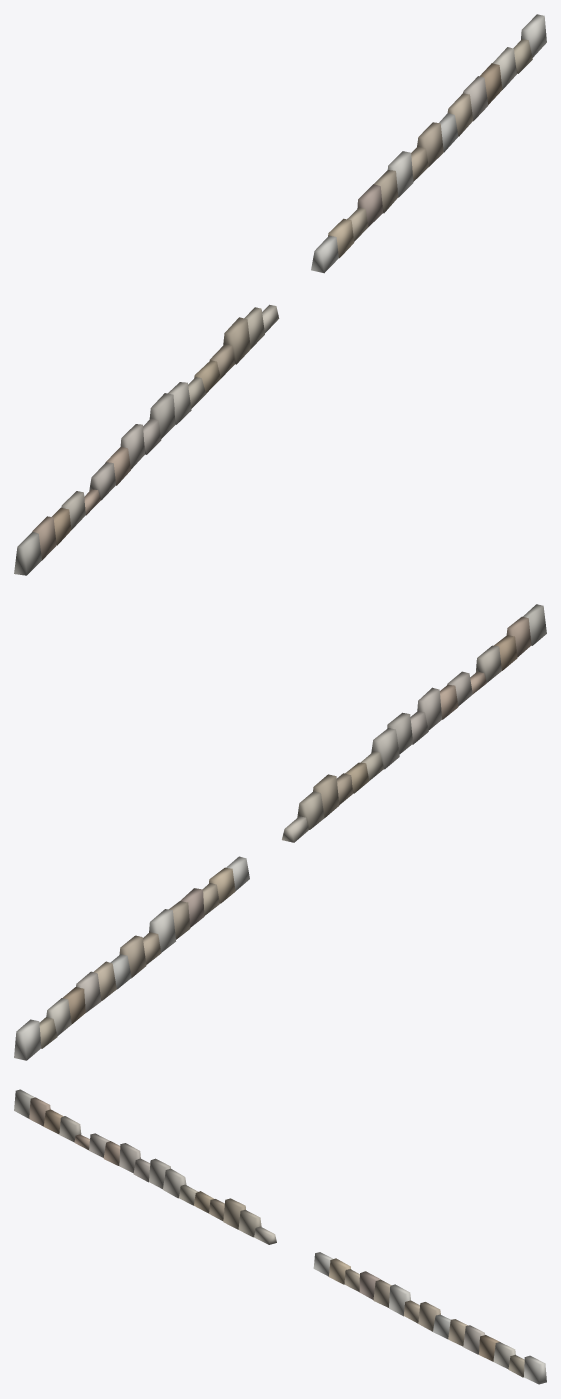
File: farm_-4_-5_far.glb
3 renders of one model, top to bottom at view 1: azimuth 30°, elevation 25°; view 2: azimuth 210°, elevation 25°; view 3: azimuth 270°, elevation 25°, orthographic. The views are drawn at different scales.
Visible parts, largest first — view 1: geometry_0; view 2: geometry_0; view 3: geometry_0.
Part boxes in pixels (<box>): geometry_0: <box>14,14,546,575</box>; geometry_0: <box>14,604,546,1060</box>; geometry_0: <box>14,1089,546,1384</box>.
Bounding box in the file's own units: 45.95 × 3.96 × 32.89.
